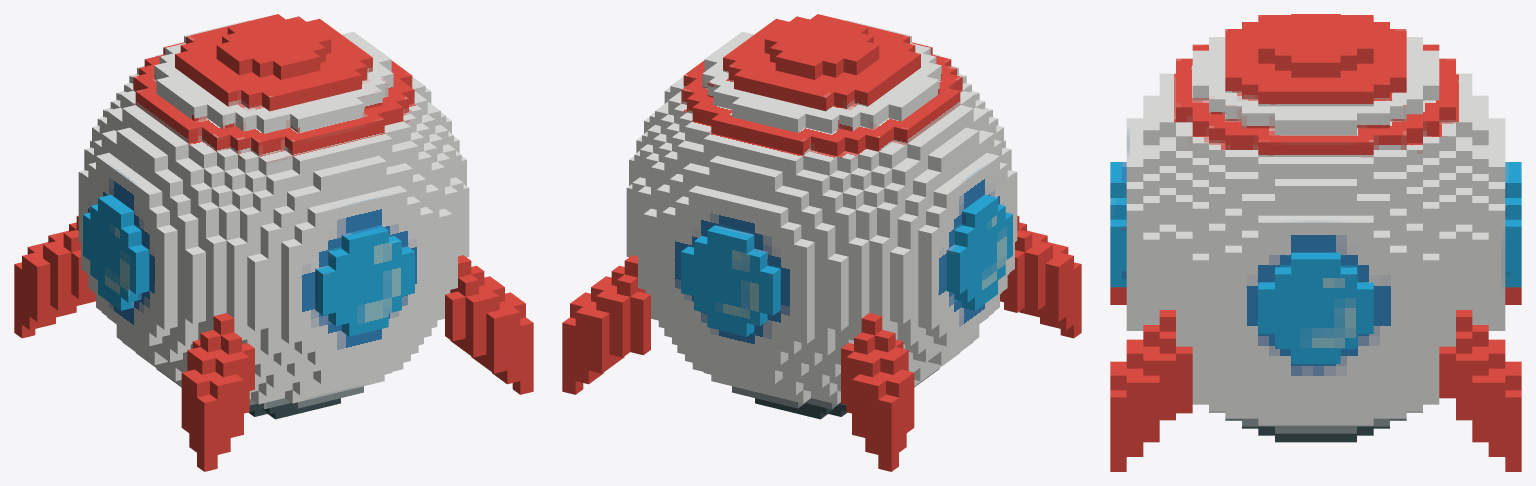
Rendered from rocket.glb.
3 renders of one model, left to right at view 1: azimuth 30°, elevation 25°; view 2: azimuth 150°, elevation 25°; view 3: azimuth 270°, elevation 25°, orthographic. The views are drawn at different scales.
Parts seen in each view (by area): view 1: RocketBall_Ball.001, RocketBall_Rocket.001; view 2: RocketBall_Ball.001, RocketBall_Rocket.001; view 3: RocketBall_Ball.001, RocketBall_Rocket.001.
Boxes of the visible parts, x1,y1,x2,y2 form: RocketBall_Ball.001: [78, 14, 469, 419]; RocketBall_Rocket.001: [14, 215, 533, 471]; RocketBall_Ball.001: [626, 14, 1017, 419]; RocketBall_Rocket.001: [562, 215, 1081, 471]; RocketBall_Ball.001: [1110, 14, 1521, 442]; RocketBall_Rocket.001: [1110, 287, 1521, 471].
Size of the model in its own units: 2.5 by 2.5 by 2.5.
2 materials, 2 textured.
